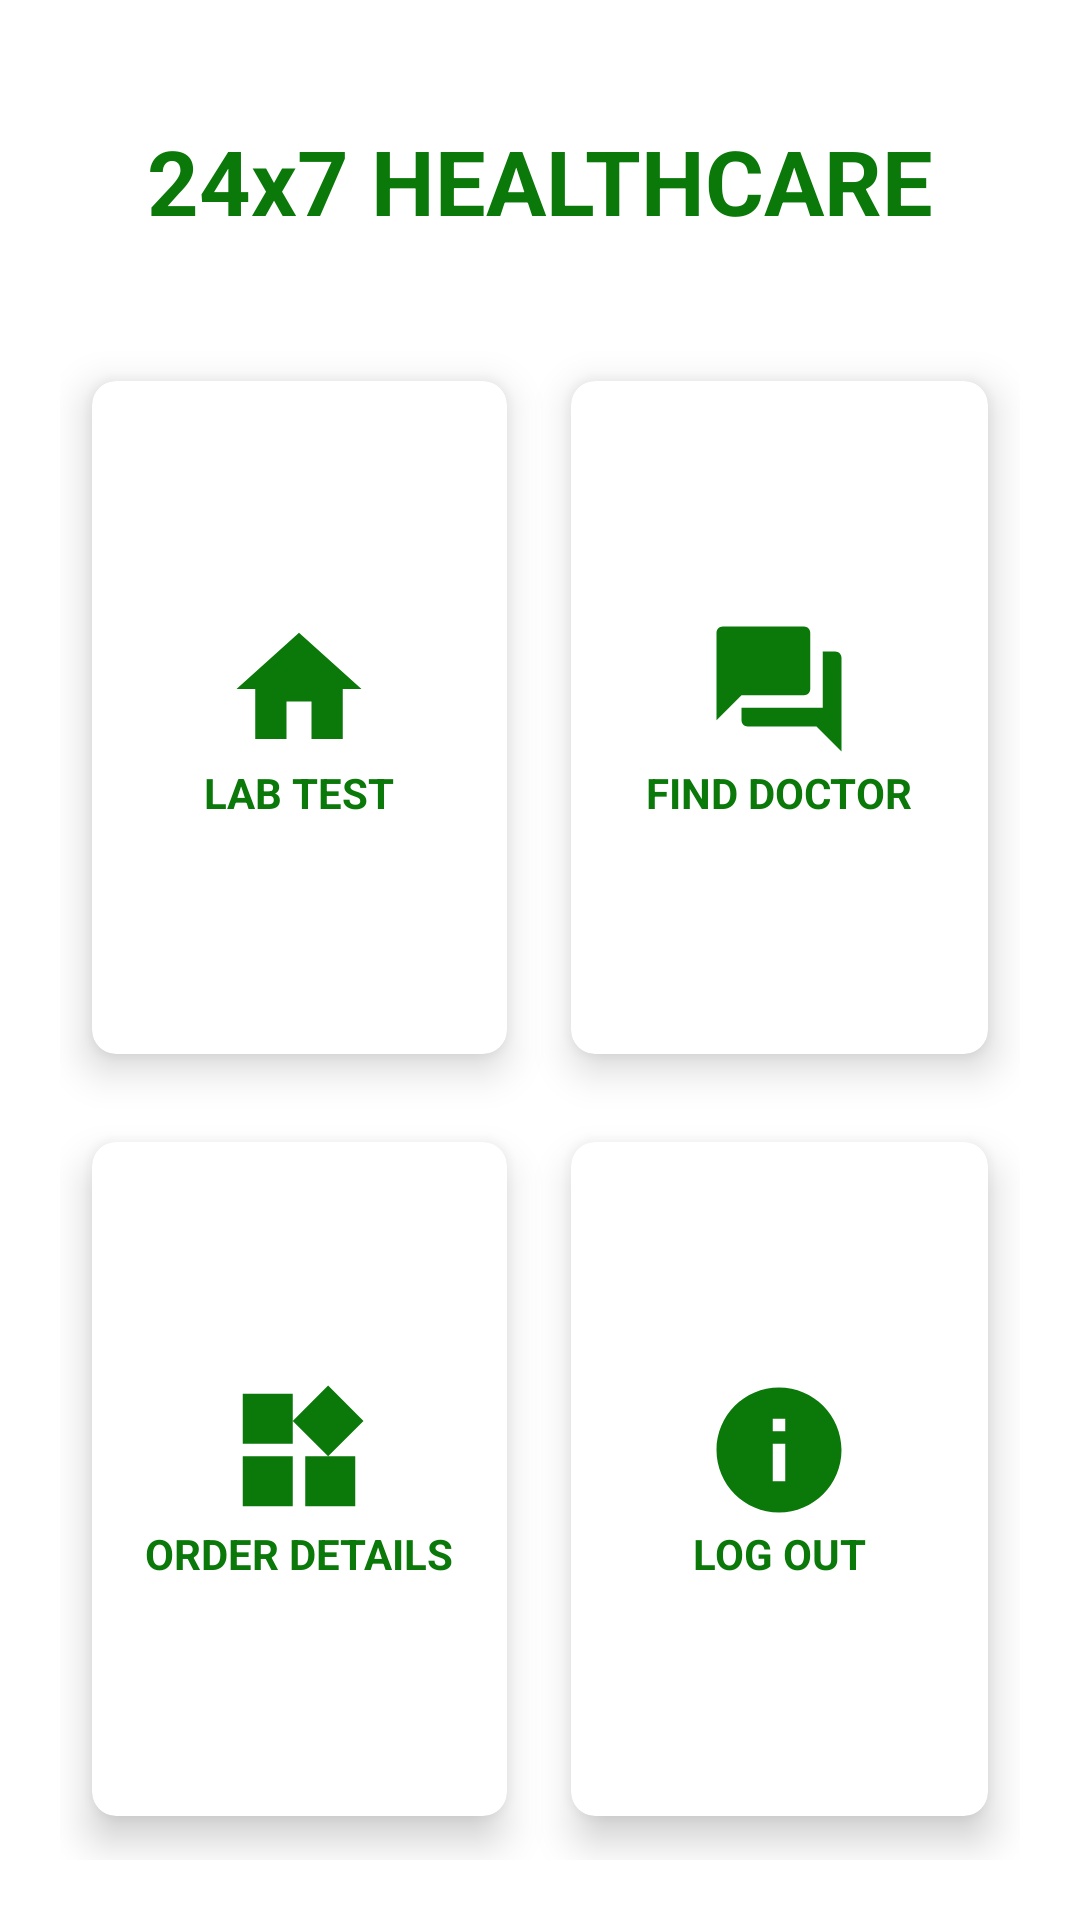

Point at icon controls on the screen. Image size 1080*1920, points as (x=x, y=y).
chat: (x=779, y=689)
home: (x=299, y=686)
info: (x=779, y=1450)
widgets: (x=303, y=1446)
